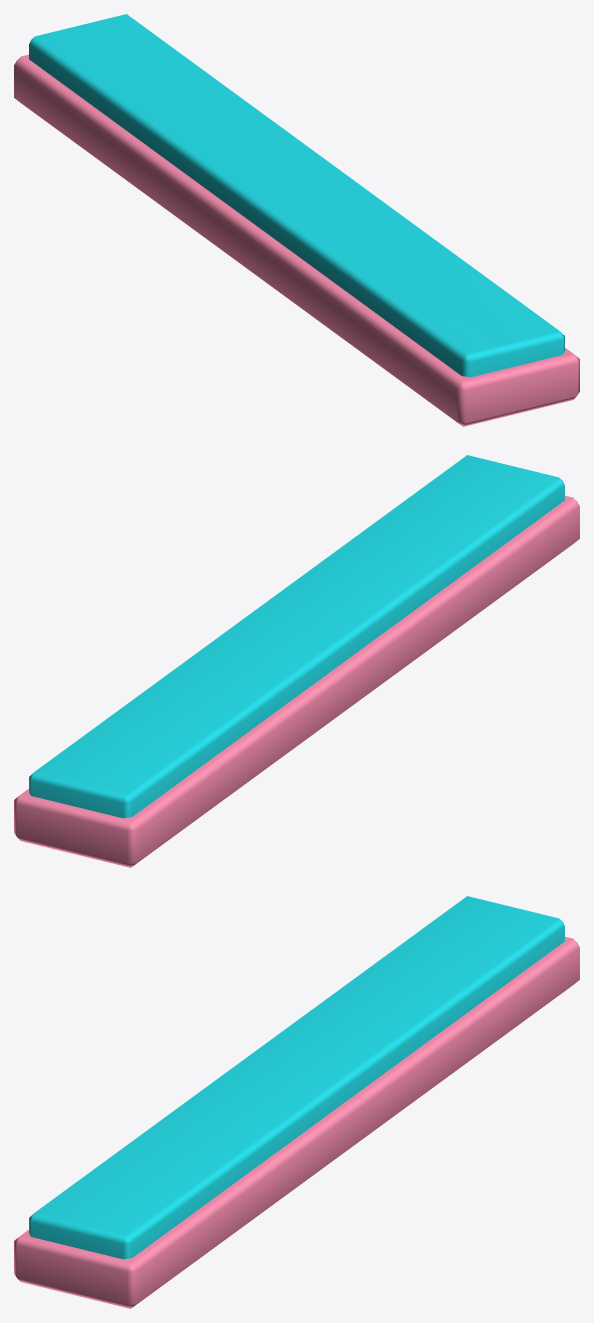
Rendered from Store_8_Candy_Stand_1.glb.
The picture shows the model from 3 angles, top to bottom: view 1: azimuth 30°, elevation 25°; view 2: azimuth 150°, elevation 25°; view 3: azimuth 330°, elevation 25°; orthographic projection.
Parts seen in each view (by area): view 1: Store_8_Candy_Stand_1; view 2: Store_8_Candy_Stand_1; view 3: Store_8_Candy_Stand_1.
Part boxes in pixels (x1,y1,x2,y2): Store_8_Candy_Stand_1: [14, 14, 579, 426]; Store_8_Candy_Stand_1: [14, 455, 579, 867]; Store_8_Candy_Stand_1: [14, 896, 579, 1308].
Bounding box in the file's own units: 0.929 × 0.4882 × 5.87.
Materials: 1 (1 with a texture image).
